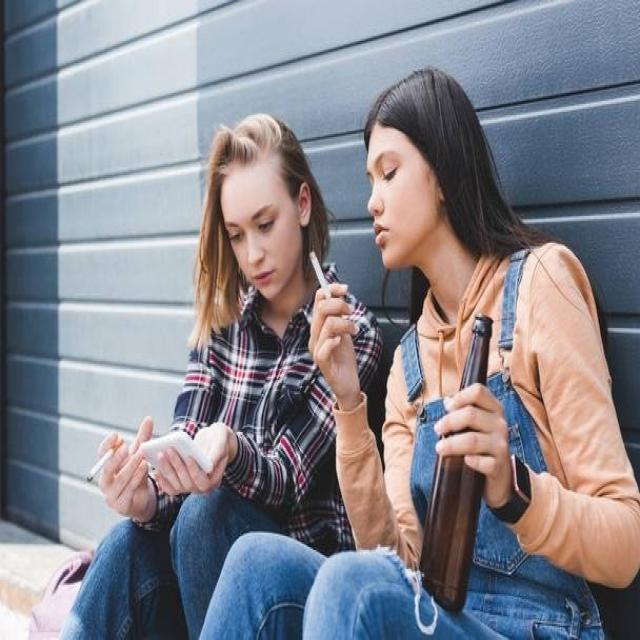cigarette: (83, 432, 126, 489), (308, 249, 334, 293)
